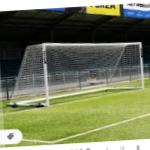goals: (8, 39, 145, 107)
